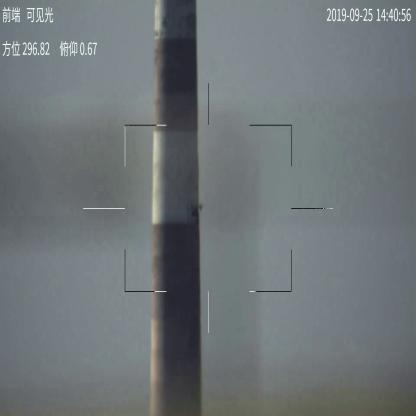uav: (186, 200, 206, 222)
